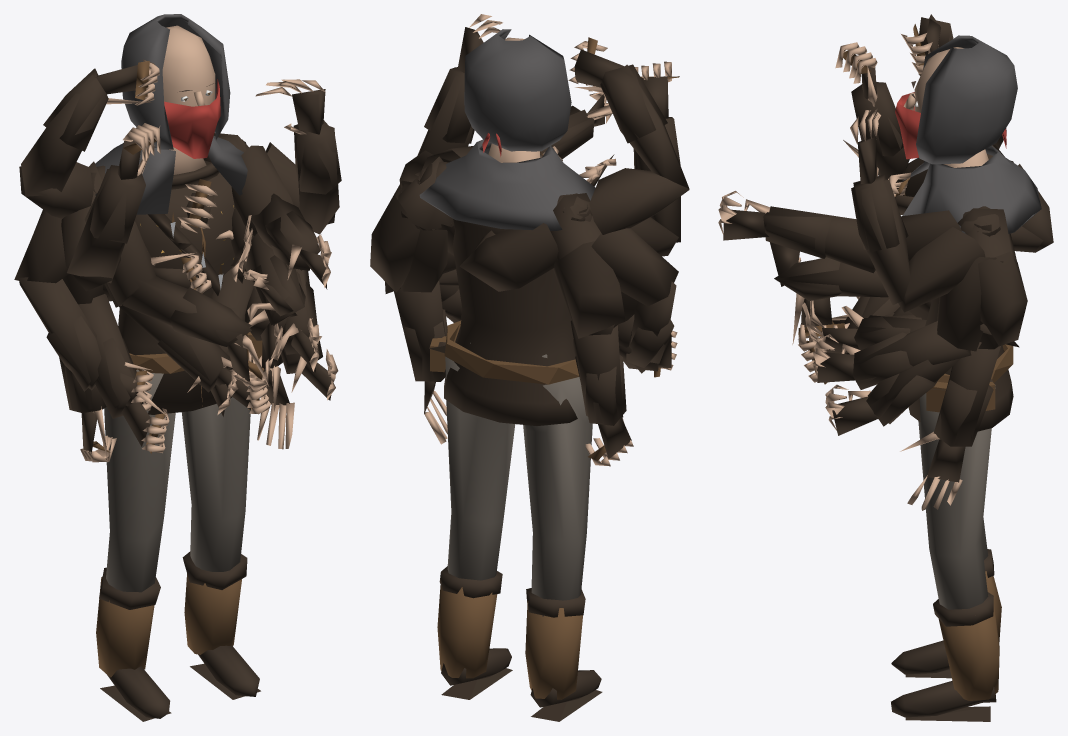
Rendered from human_bare.glb.
3 renders of one model, left to right at view 1: azimuth 30°, elevation 25°; view 2: azimuth 150°, elevation 25°; view 3: azimuth 270°, elevation 25°, orthographic. The views are drawn at different scales.
Parts seen in each view (by area): view 1: B_0d, R.raised_3d, R.xbowR_8d, R.staffR_5d, R.cast_6d, L.cast_15d, L.bowArm_12d, R.weapon_2d, R.twoR_7d, L.xbowL_14d, R.rest_1d, L.shield_11d (+7 smaller); view 2: B_0d, R.raised_3d, R.staffR_5d, L.rest_10d, R.rest_1d, R.carry_9d, R.draw_4d, L.cast_15d, L.carry_17d, R.cast_6d, L.bowArm_12d, R.weapon_2d (+1 smaller); view 3: B_0d, L.cast_15d, L.shield_11d, L.bowArm_12d, L.rest_10d, R.cast_6d, L.weapon_18d, L.xbowL_14d, L.carry_17d, L.book_16d, R.draw_4d, R.raised_3d (+2 smaller).
Boxes of the visible parts, bbox=[...] form: B_0d: bbox=[89, 14, 262, 721]; R.raised_3d: bbox=[19, 59, 159, 218]; R.xbowR_8d: bbox=[107, 221, 268, 389]; R.staffR_5d: bbox=[14, 209, 153, 410]; R.cast_6d: bbox=[61, 123, 160, 291]; L.cast_15d: bbox=[244, 79, 341, 234]; L.bowArm_12d: bbox=[231, 145, 331, 289]; R.weapon_2d: bbox=[62, 274, 169, 453]; R.twoR_7d: bbox=[104, 283, 270, 414]; L.xbowL_14d: bbox=[231, 206, 305, 325]; R.rest_1d: bbox=[59, 357, 116, 462]; L.shield_11d: bbox=[277, 269, 321, 372]; B_0d: bbox=[398, 29, 602, 721]; R.raised_3d: bbox=[568, 37, 689, 234]; R.staffR_5d: bbox=[577, 209, 678, 367]; L.rest_10d: bbox=[394, 199, 449, 444]; R.rest_1d: bbox=[553, 219, 633, 466]; R.carry_9d: bbox=[555, 217, 625, 338]; R.draw_4d: bbox=[459, 146, 563, 291]; L.cast_15d: bbox=[399, 14, 502, 192]; L.carry_17d: bbox=[370, 174, 455, 293]; R.cast_6d: bbox=[579, 61, 680, 256]; L.bowArm_12d: bbox=[421, 85, 612, 171]; R.weapon_2d: bbox=[576, 219, 677, 377]; B_0d: bbox=[891, 35, 1041, 721]; L.cast_15d: bbox=[843, 108, 991, 312]; L.shield_11d: bbox=[812, 229, 997, 389]; L.bowArm_12d: bbox=[718, 190, 961, 273]; L.rest_10d: bbox=[900, 259, 1015, 510]; R.cast_6d: bbox=[835, 42, 927, 196]; L.weapon_18d: bbox=[825, 297, 961, 435]; L.xbowL_14d: bbox=[770, 242, 888, 300]; L.carry_17d: bbox=[919, 226, 1027, 347]; L.book_16d: bbox=[802, 229, 1003, 353]; R.draw_4d: bbox=[888, 164, 1053, 252]; R.raised_3d: bbox=[901, 14, 1003, 148].
Bounding box in the file's own units: 0.8979 × 1.91 × 0.8892.
